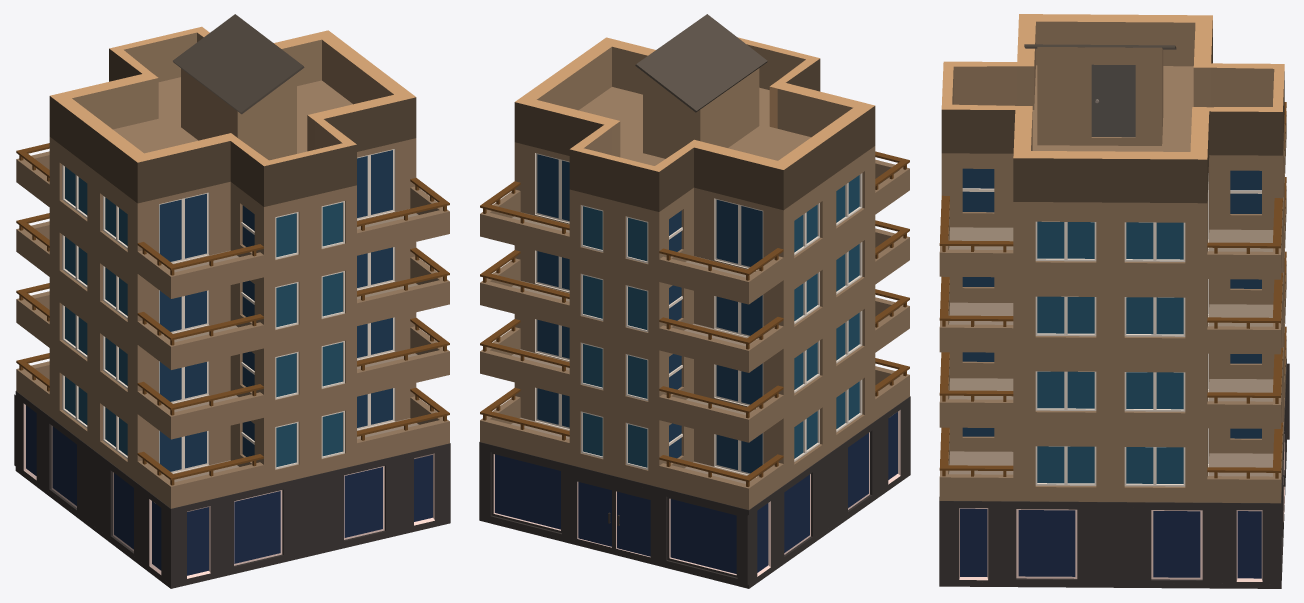
The model's file is residential-block.glb.
The picture shows the model from 3 angles, left to right: view 1: azimuth 30°, elevation 25°; view 2: azimuth 150°, elevation 25°; view 3: azimuth 270°, elevation 25°; orthographic projection. The views are drawn at different scales.
Visible parts, largest first — view 1: Object_101; view 2: Object_101; view 3: Object_101.
Boxes of the visible parts, left/top/right/bottom form: Object_101: left=14, top=14, right=450, bottom=588; Object_101: left=479, top=14, right=910, bottom=588; Object_101: left=939, top=14, right=1289, bottom=588.
Bounding box in the file's own units: 14.74 × 22.73 × 14.84.
Materials: 1 (1 with a texture image).
